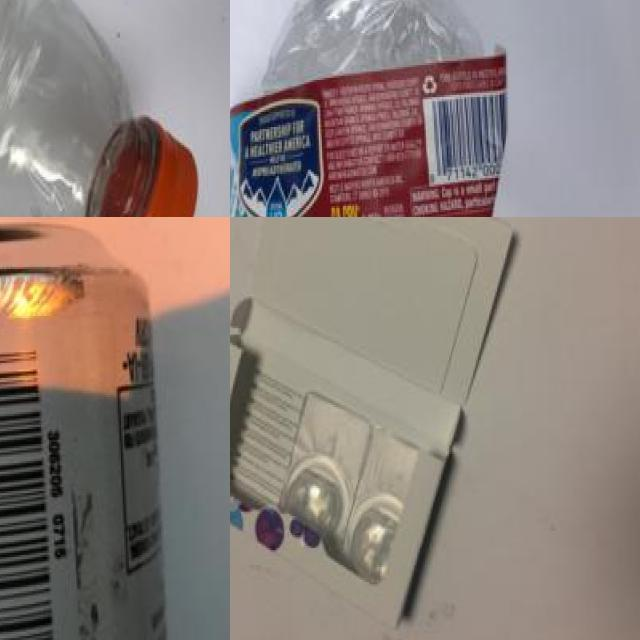plastic: (0, 228, 187, 640), (245, 0, 507, 217), (0, 0, 217, 217)
trash: (230, 217, 539, 624)
